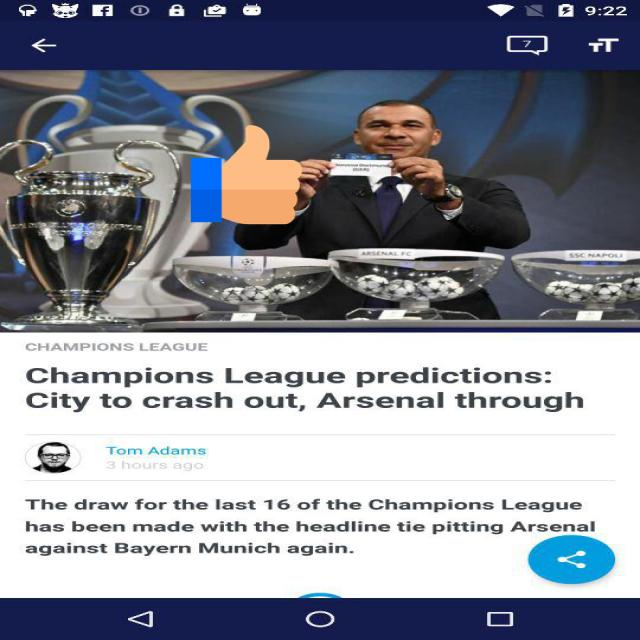privacy zuckering: (191, 122, 302, 226)
